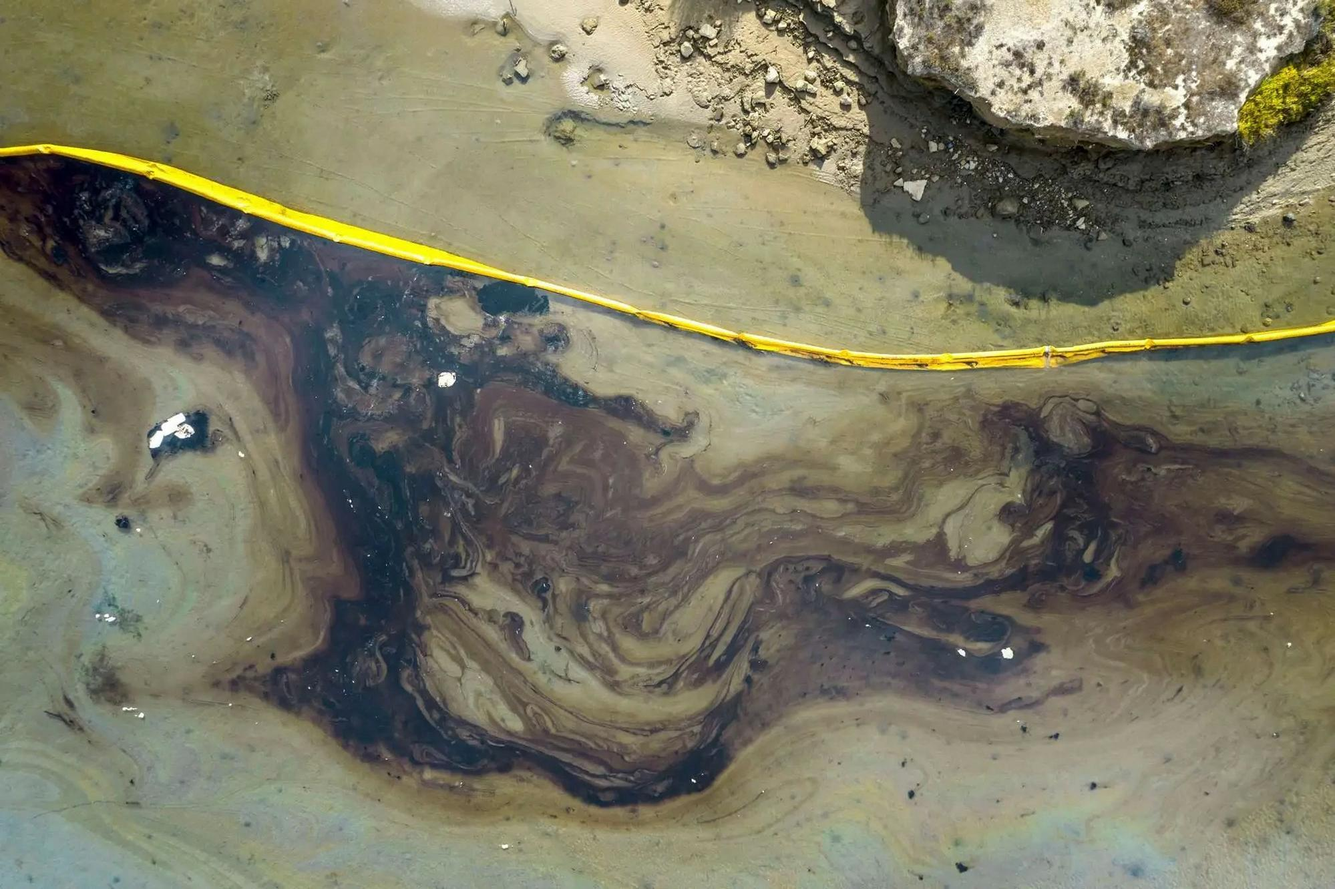Oil Pollution: (110, 212, 1089, 798)
